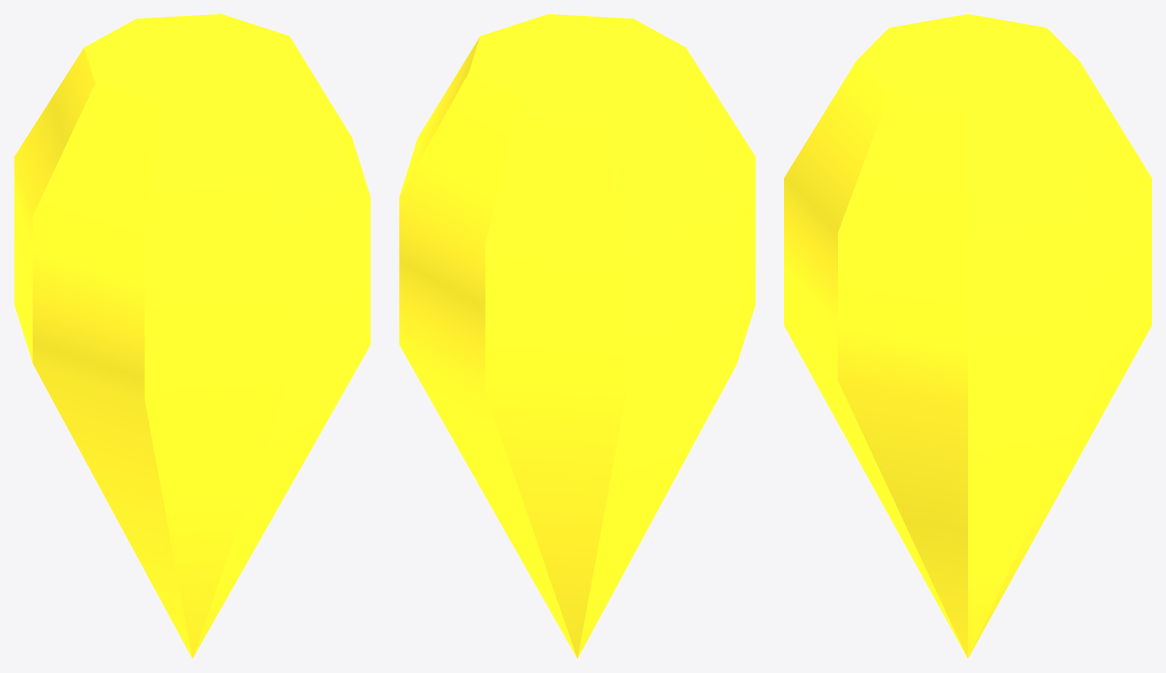
File: animated_moving_pointer.glb
The picture shows the model from 3 angles, left to right: view 1: azimuth 30°, elevation 25°; view 2: azimuth 150°, elevation 25°; view 3: azimuth 270°, elevation 25°; orthographic projection.
Parts seen in each view (by area): view 1: pointer; view 2: pointer; view 3: pointer.
Boxes of the visible parts, x1,y1,x2,y2 form: pointer: (14,14,370,658); pointer: (399,14,755,658); pointer: (784,14,1151,658).
Size of the model in its own units: 2 by 3.58 by 2.
